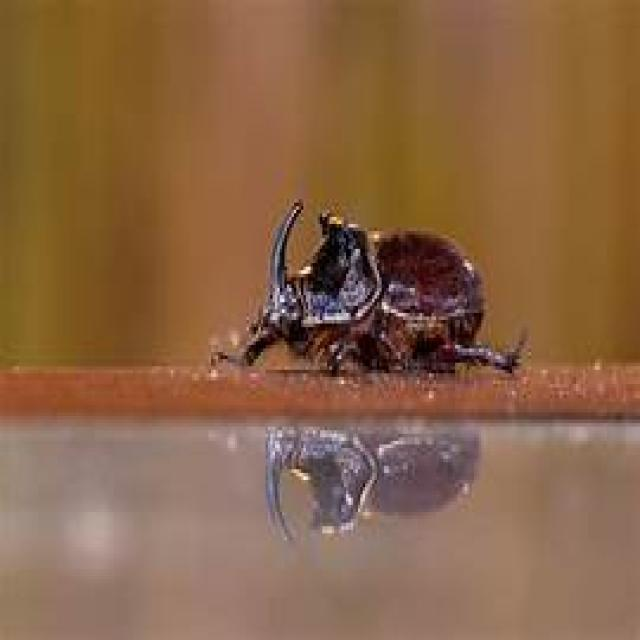Rhino-beetle: (235, 189, 500, 471)
